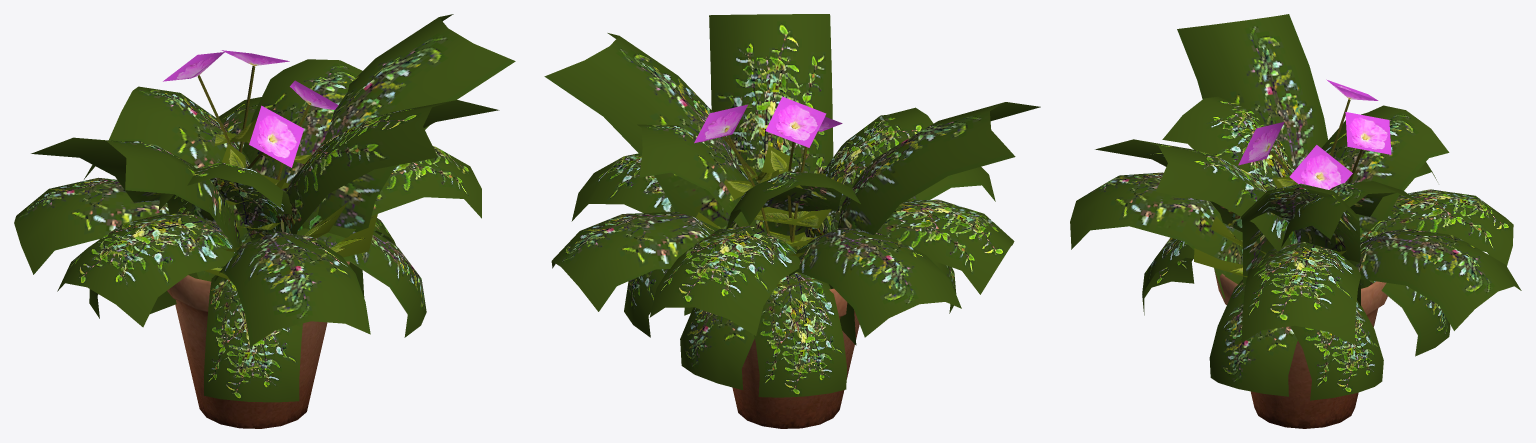
The model's file is potted_plant1.glb.
3 renders of one model, left to right at view 1: azimuth 30°, elevation 25°; view 2: azimuth 150°, elevation 25°; view 3: azimuth 270°, elevation 25°, orthographic. The views are drawn at different scales.
Visible parts, largest first — view 1: potted_plant1; view 2: potted_plant1; view 3: potted_plant1.
Boxes of the visible parts, x1=… form: potted_plant1: x1=14, y1=14, x2=515, y2=428; potted_plant1: x1=544, y1=14, x2=1040, y2=428; potted_plant1: x1=1070, y1=14, x2=1521, y2=428.
Size of the model in its own units: 0.93 by 0.6634 by 0.8588.
3 materials, 3 textured.
